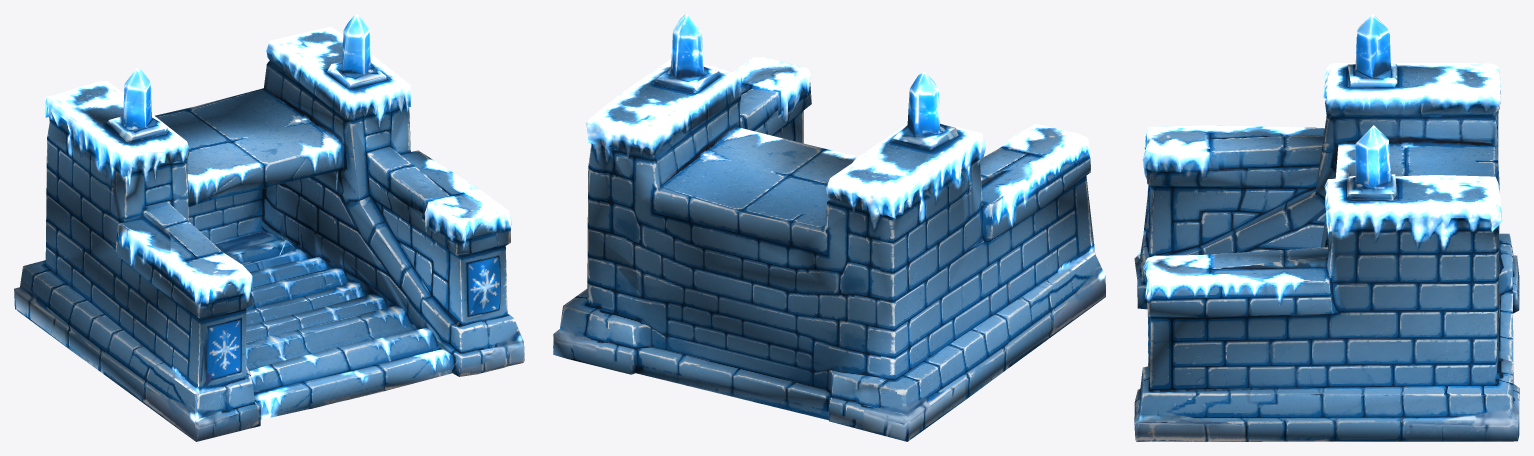
File: IceDungeonStairs.glb
3 views of the same model, side by side, from view 1: azimuth 30°, elevation 25°; view 2: azimuth 150°, elevation 25°; view 3: azimuth 270°, elevation 25° (orthographic). The views are drawn at different scales.
Visible parts, largest first — view 1: Mesh_0; view 2: Mesh_0; view 3: Mesh_0.
Part boxes in pixels (<box>): Mesh_0: <box>14,14,524,441</box>; Mesh_0: <box>553,14,1105,441</box>; Mesh_0: <box>1134,14,1519,441</box>.
Size of the model in its own units: 1.91 by 1.54 by 1.85.
Materials: 1 (1 with a texture image).
